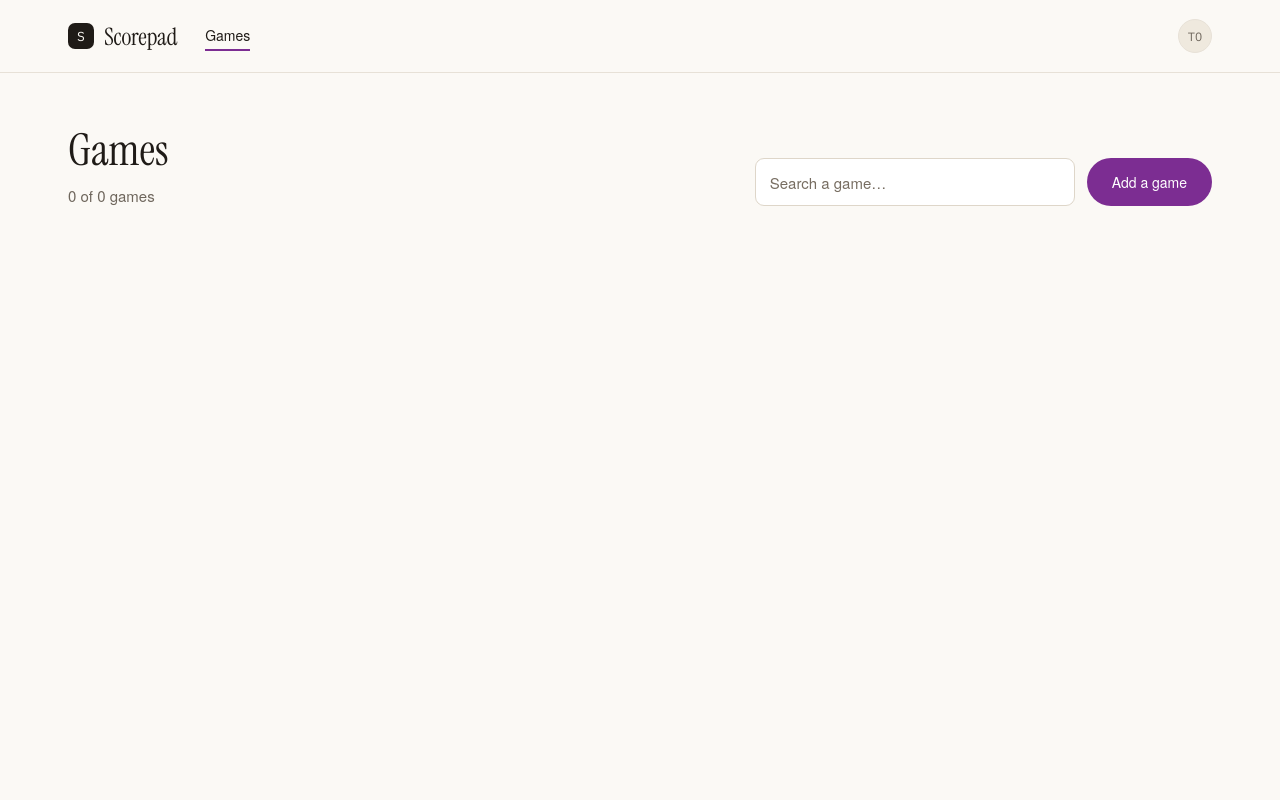
Scenario: logout › is in the avatar menu and goes back to the home page
Expected: the menu item "Logout" is not shown
Click the button with aria-label "Account menu": [1195, 36] box top-left (1178, 19), bottom-right (1212, 53)
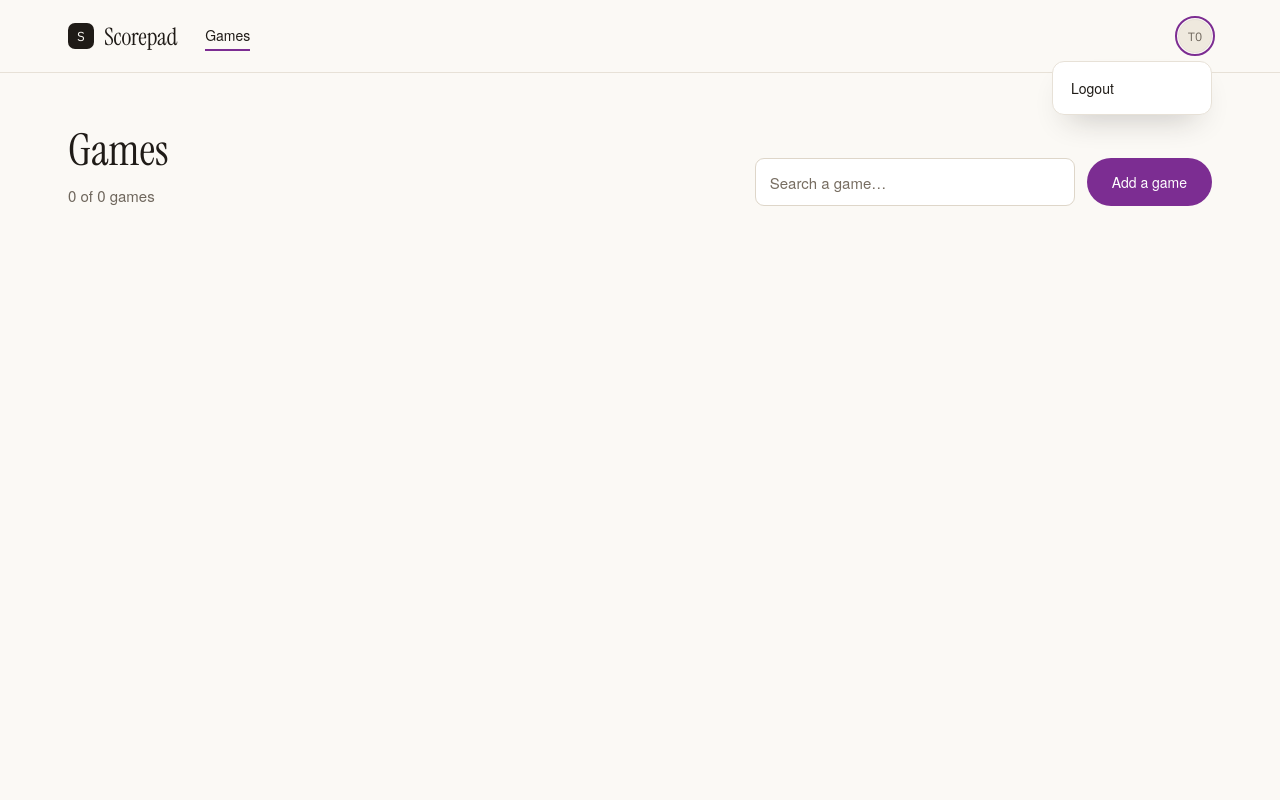
Click the menu item "Logout": [1132, 88] box top-left (1059, 68), bottom-right (1205, 108)
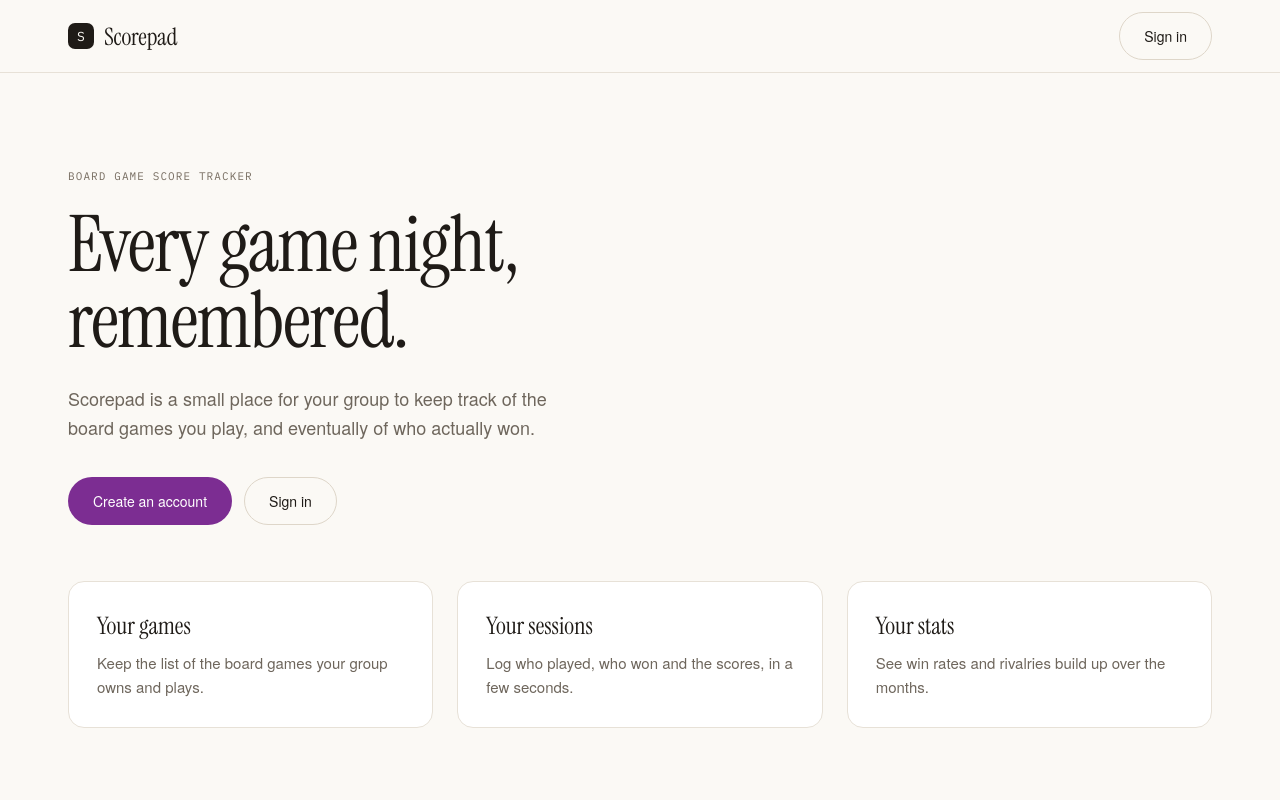
Expected: the heading "Every game night, remembered." is shown, top-left (68, 207), bottom-right (570, 360)
